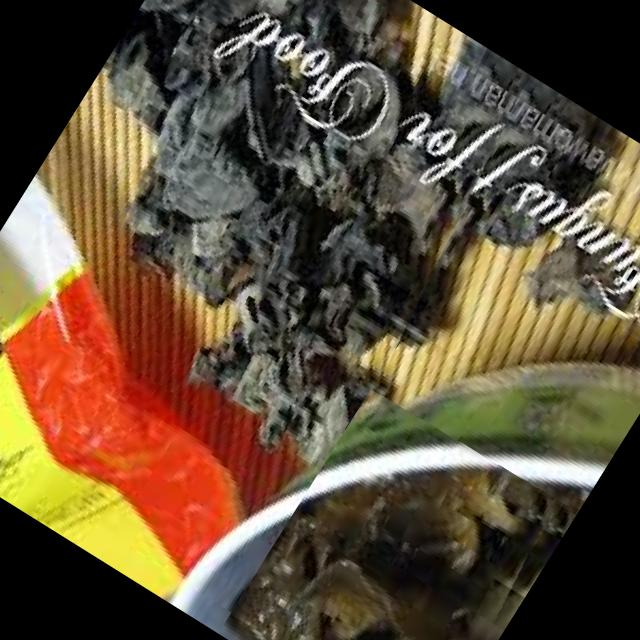Organic: (0, 0, 568, 482), (216, 383, 577, 640)
